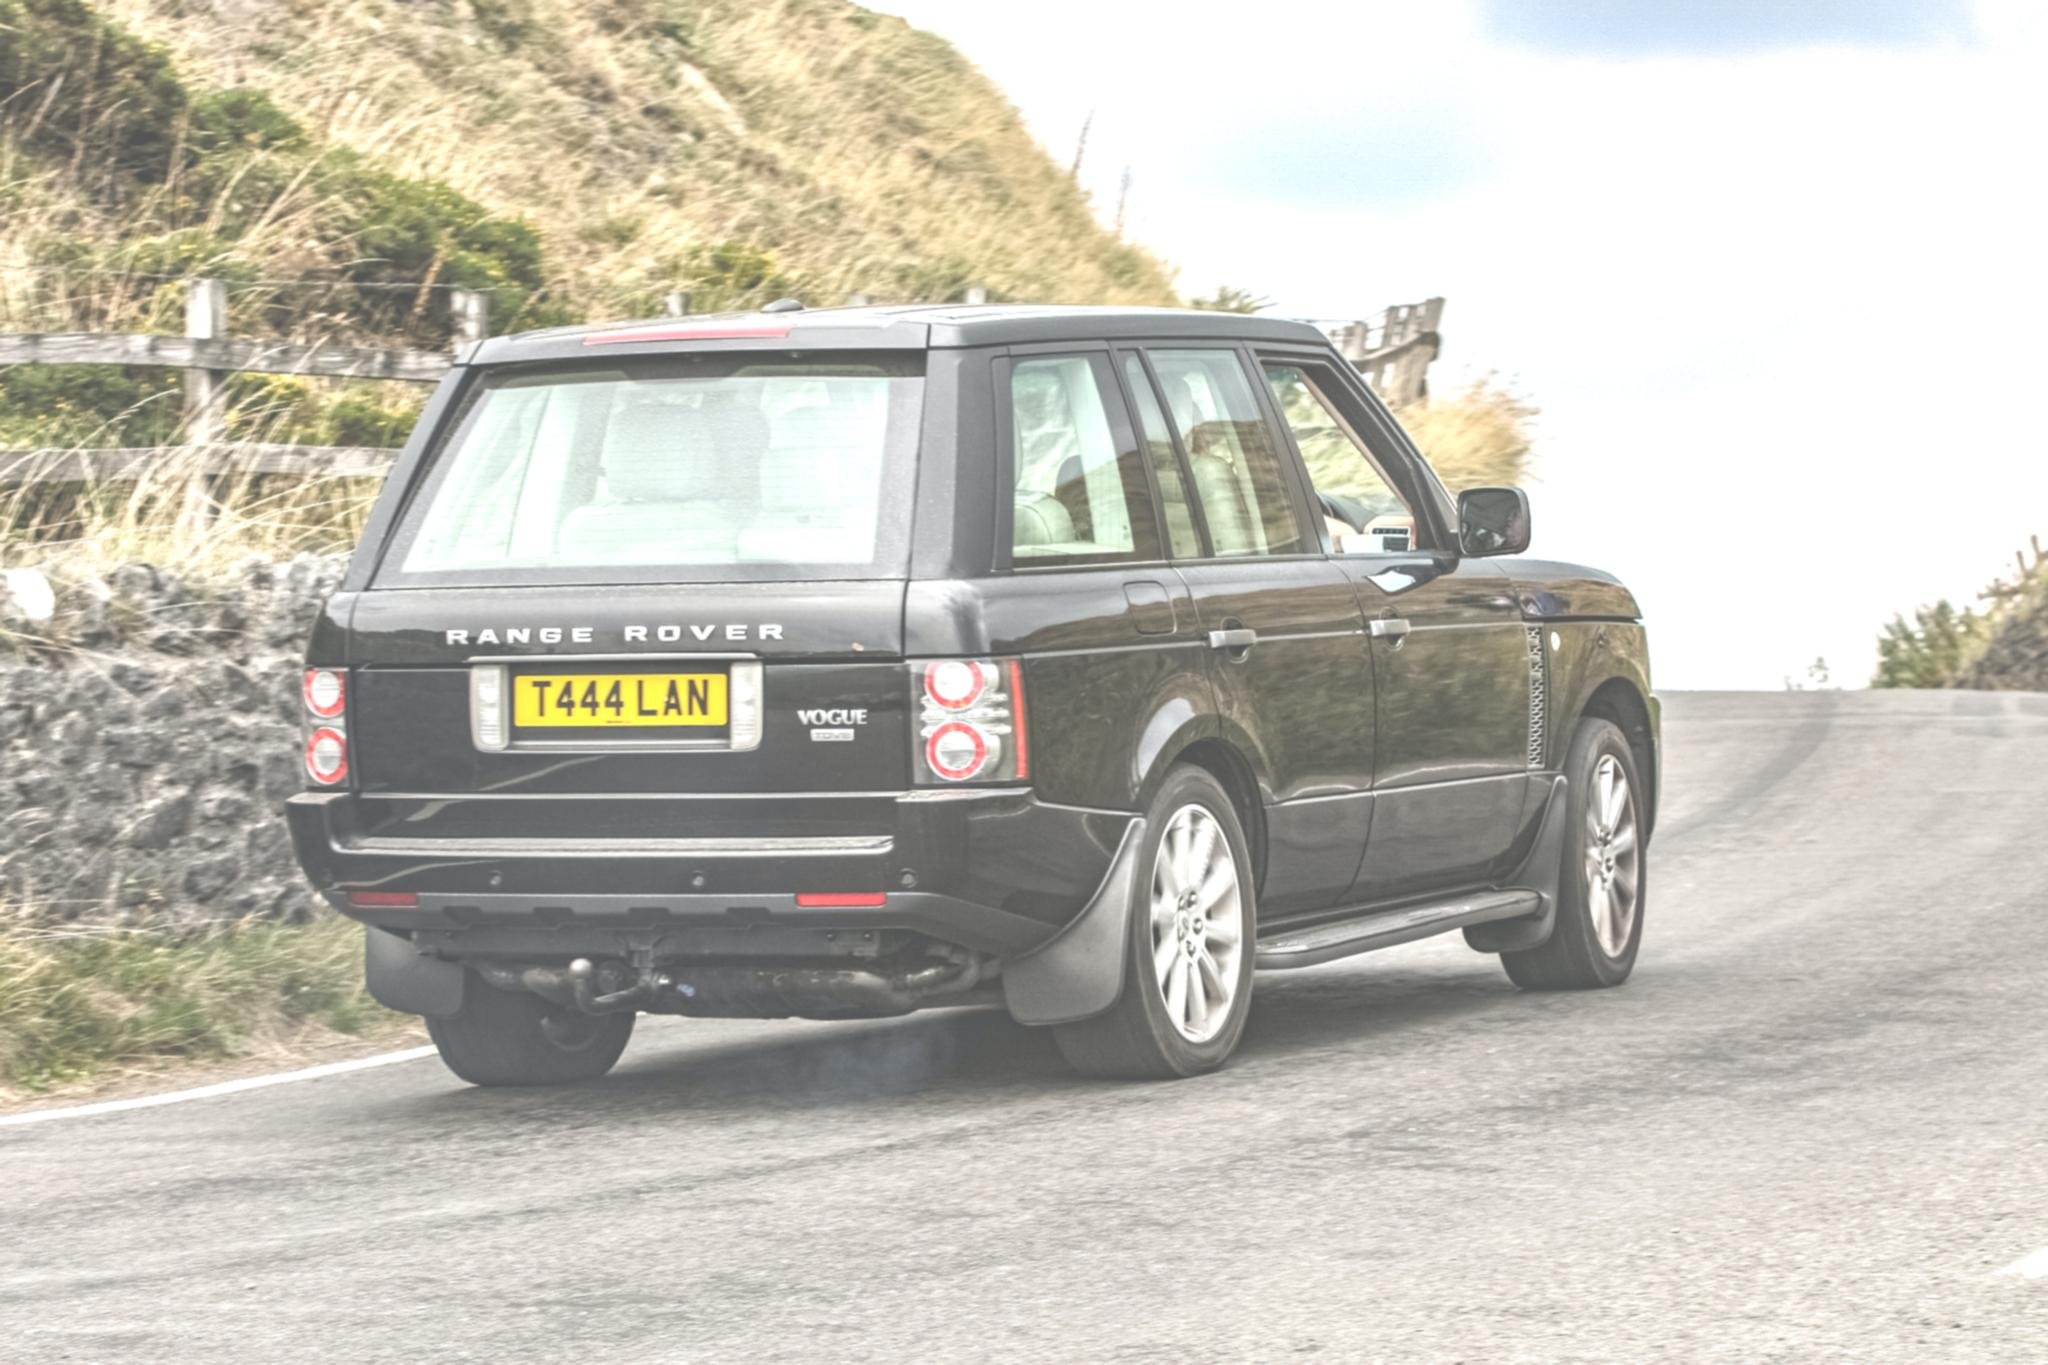range rover: (428, 600, 802, 676)
